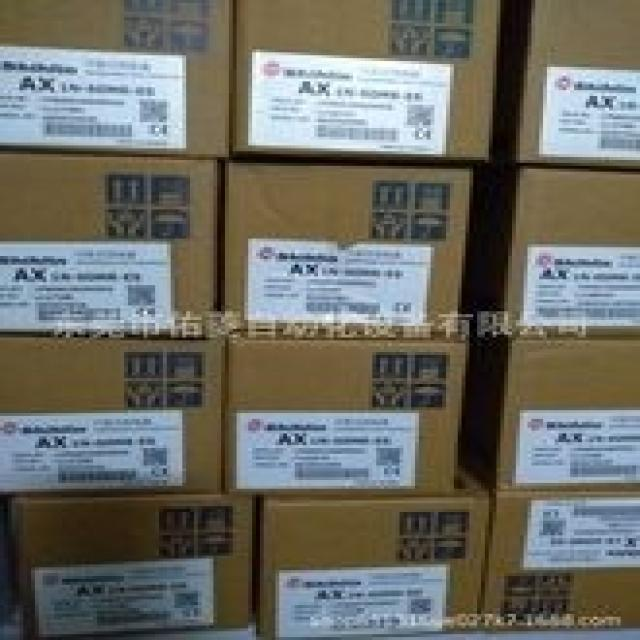box: (213, 160, 477, 340), (225, 0, 500, 169), (0, 151, 225, 337), (225, 340, 469, 497), (0, 335, 225, 497), (12, 497, 260, 640), (252, 495, 493, 640), (462, 169, 640, 340), (469, 465, 640, 631), (462, 340, 640, 492), (489, 0, 640, 172)
